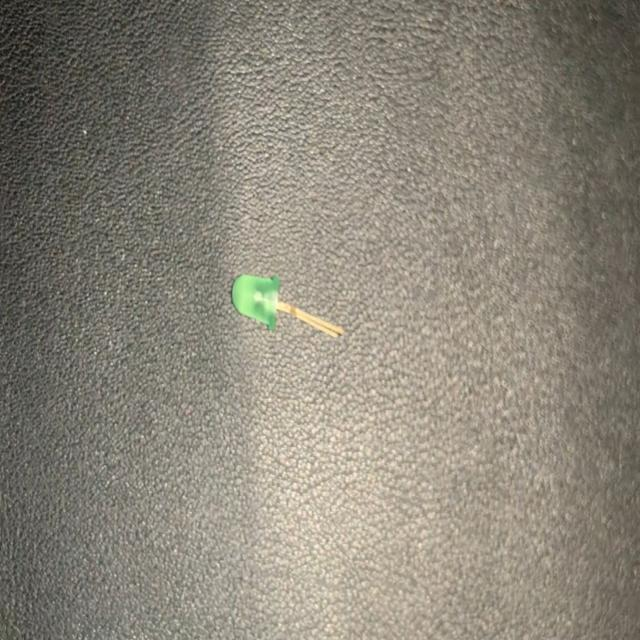LED: (229, 267, 343, 344)
